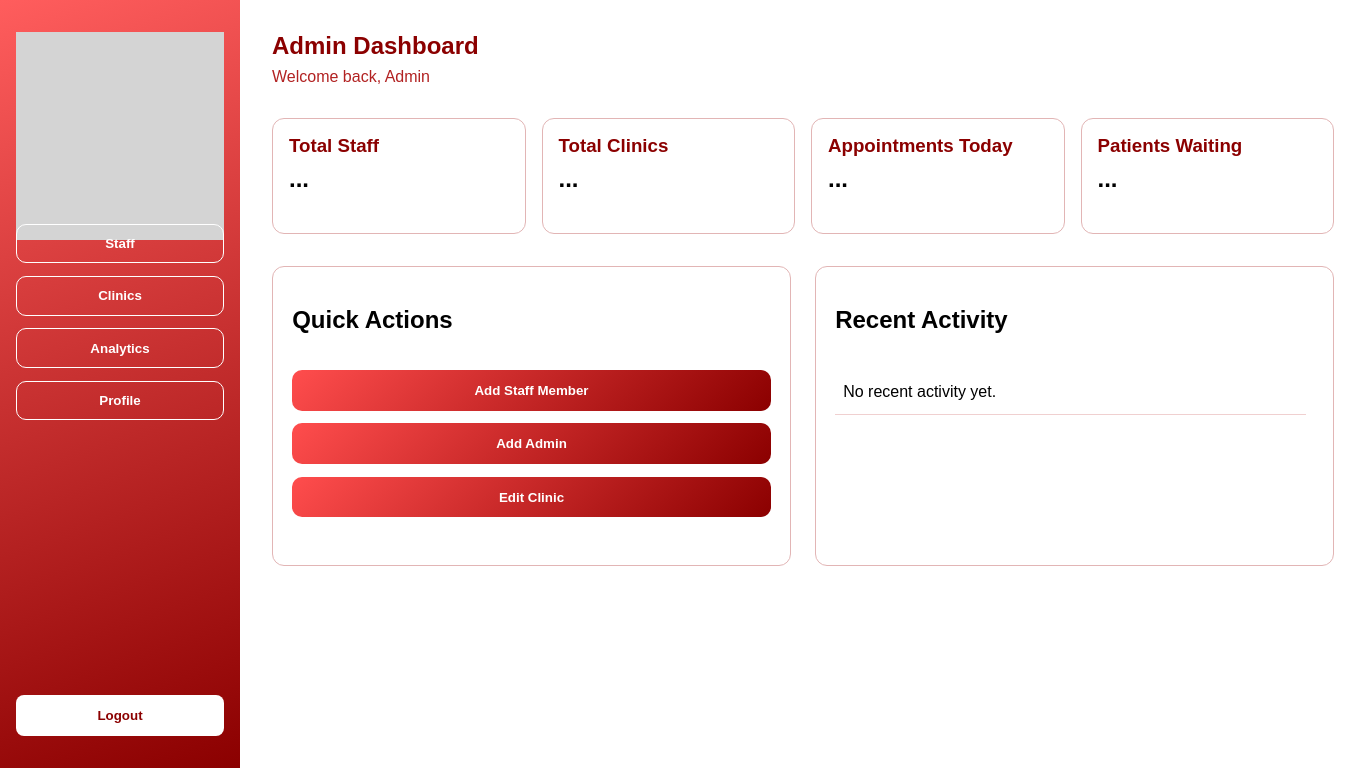
Test: AdminDashboard › opens profile popup
The image size is (1366, 768).
Click the button "Profile" at (120, 400), box [16,380,224,420]
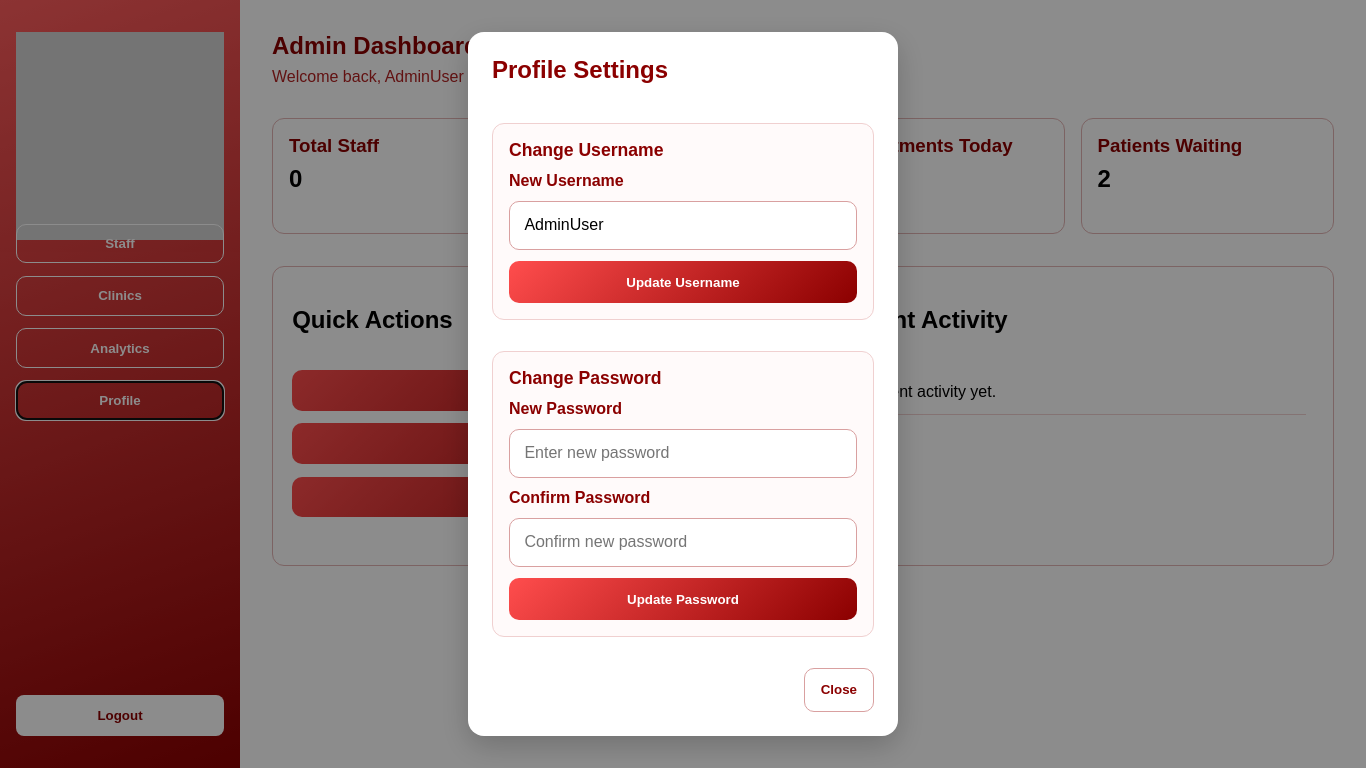
Expected: the heading "Profile Settings" is shown, [492,56,668,83]
Expected: the heading "Change Username" is shown, [509,140,664,160]
Expected: the heading "Change Password" is shown, [509,368,662,388]
